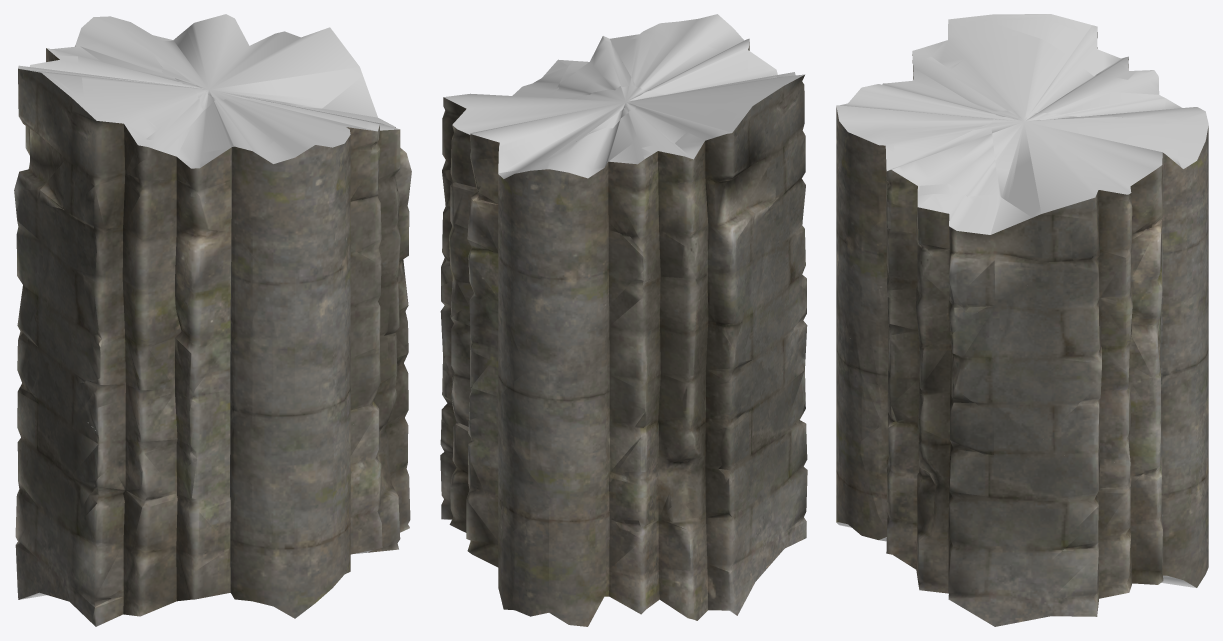
The model's file is Origin2.fbx.
The picture shows the model from 3 angles, left to right: view 1: azimuth 30°, elevation 25°; view 2: azimuth 150°, elevation 25°; view 3: azimuth 270°, elevation 25°; orthographic projection. The views are drawn at different scales.
Parts seen in each view (by area): view 1: ColumnDamage08_DM.026, ColumnDamage08_DM.046, ColumnDamage08_DM.024, ColumnDamage08_DM.013, ColumnDamage08_DM.009, ColumnDamage08_DM.035, ColumnDamage08_DM.029, ColumnDamage08_DM.008, ColumnDamage08_DM.010, ColumnDamage08_DM.001, ColumnDamage08_DM.044, ColumnDamage08_DM.020 (+11 smaller); view 2: ColumnDamage08_DM.024, ColumnDamage08_DM.043, ColumnDamage08_DM.005, ColumnDamage08_DM.021, ColumnDamage08_DM.035, ColumnDamage08_DM.008, ColumnDamage08_DM.011, ColumnDamage08_DM.015, ColumnDamage08_DM.038, ColumnDamage08_DM.010, ColumnDamage08_DM.046, ColumnDamage08_DM.004 (+13 smaller); view 3: ColumnDamage08_DM.035, ColumnDamage08_DM.001, ColumnDamage08_DM.024, ColumnDamage08_DM.030, ColumnDamage08_DM.046, ColumnDamage08_DM.016, ColumnDamage08_DM.050, ColumnDamage08_DM.004, ColumnDamage08_DM.037, ColumnDamage08_DM.042, ColumnDamage08_DM.048, ColumnDamage08_DM.043 (+10 smaller).
Part boxes in pixels (x1,y1,x2,y2): ColumnDamage08_DM.026: (69, 155, 268, 389); ColumnDamage08_DM.046: (164, 98, 377, 274); ColumnDamage08_DM.024: (14, 17, 203, 210); ColumnDamage08_DM.013: (186, 322, 350, 492); ColumnDamage08_DM.009: (224, 474, 350, 618); ColumnDamage08_DM.035: (120, 14, 362, 108); ColumnDamage08_DM.029: (92, 461, 235, 626); ColumnDamage08_DM.008: (15, 199, 120, 384); ColumnDamage08_DM.010: (17, 388, 105, 555); ColumnDamage08_DM.001: (349, 354, 410, 554); ColumnDamage08_DM.044: (58, 471, 178, 622); ColumnDamage08_DM.020: (252, 241, 395, 342); ColumnDamage08_DM.024: (546, 72, 805, 268); ColumnDamage08_DM.043: (476, 160, 648, 371); ColumnDamage08_DM.005: (554, 264, 738, 412); ColumnDamage08_DM.021: (499, 367, 650, 509); ColumnDamage08_DM.035: (442, 86, 644, 192); ColumnDamage08_DM.008: (690, 191, 806, 362); ColumnDamage08_DM.011: (498, 503, 620, 626); ColumnDamage08_DM.015: (599, 409, 728, 532); ColumnDamage08_DM.038: (589, 511, 745, 624); ColumnDamage08_DM.010: (714, 360, 805, 528); ColumnDamage08_DM.046: (610, 14, 777, 94); ColumnDamage08_DM.004: (449, 185, 526, 396); ColumnDamage08_DM.035: (991, 116, 1182, 273); ColumnDamage08_DM.001: (859, 416, 1016, 626); ColumnDamage08_DM.024: (912, 14, 1205, 120); ColumnDamage08_DM.030: (946, 272, 1101, 445); ColumnDamage08_DM.046: (836, 68, 996, 234); ColumnDamage08_DM.016: (1005, 473, 1173, 624); ColumnDamage08_DM.050: (989, 445, 1146, 591); ColumnDamage08_DM.004: (1101, 228, 1207, 385); ColumnDamage08_DM.037: (916, 194, 1051, 315); ColumnDamage08_DM.042: (1037, 357, 1187, 467); ColumnDamage08_DM.048: (864, 201, 970, 348); ColumnDamage08_DM.043: (1147, 113, 1208, 325).
Bounding box in the file's own units: 336 × 545 × 373.
